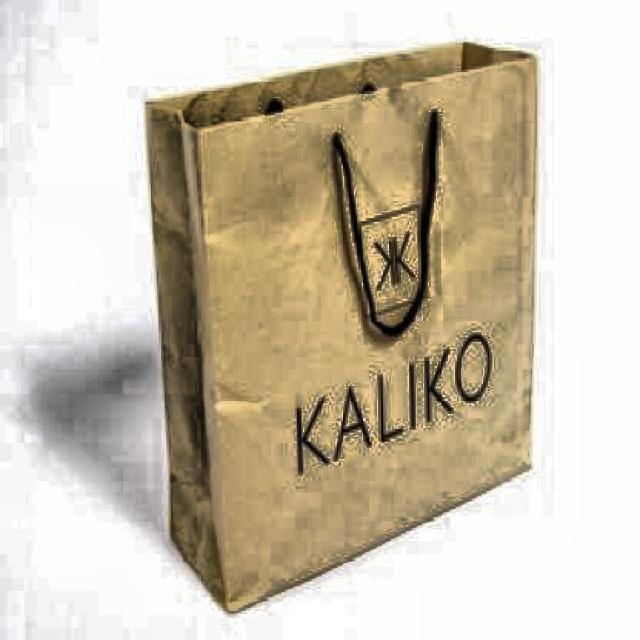Paper-bag: (113, 19, 565, 623)
